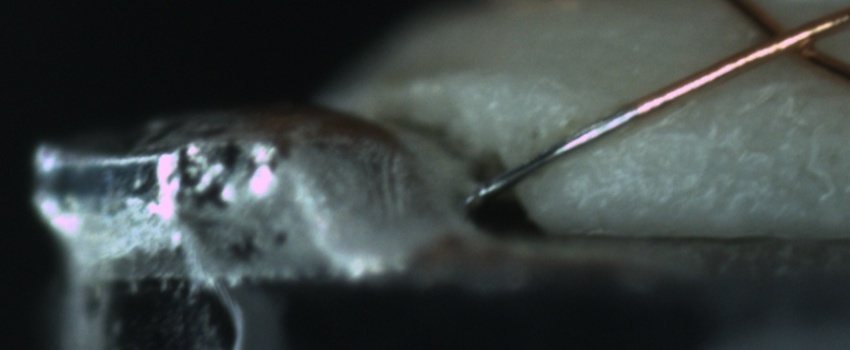CL: (735, 2, 841, 70)
TS: (469, 103, 639, 205)
TTCW: (480, 64, 714, 202)
